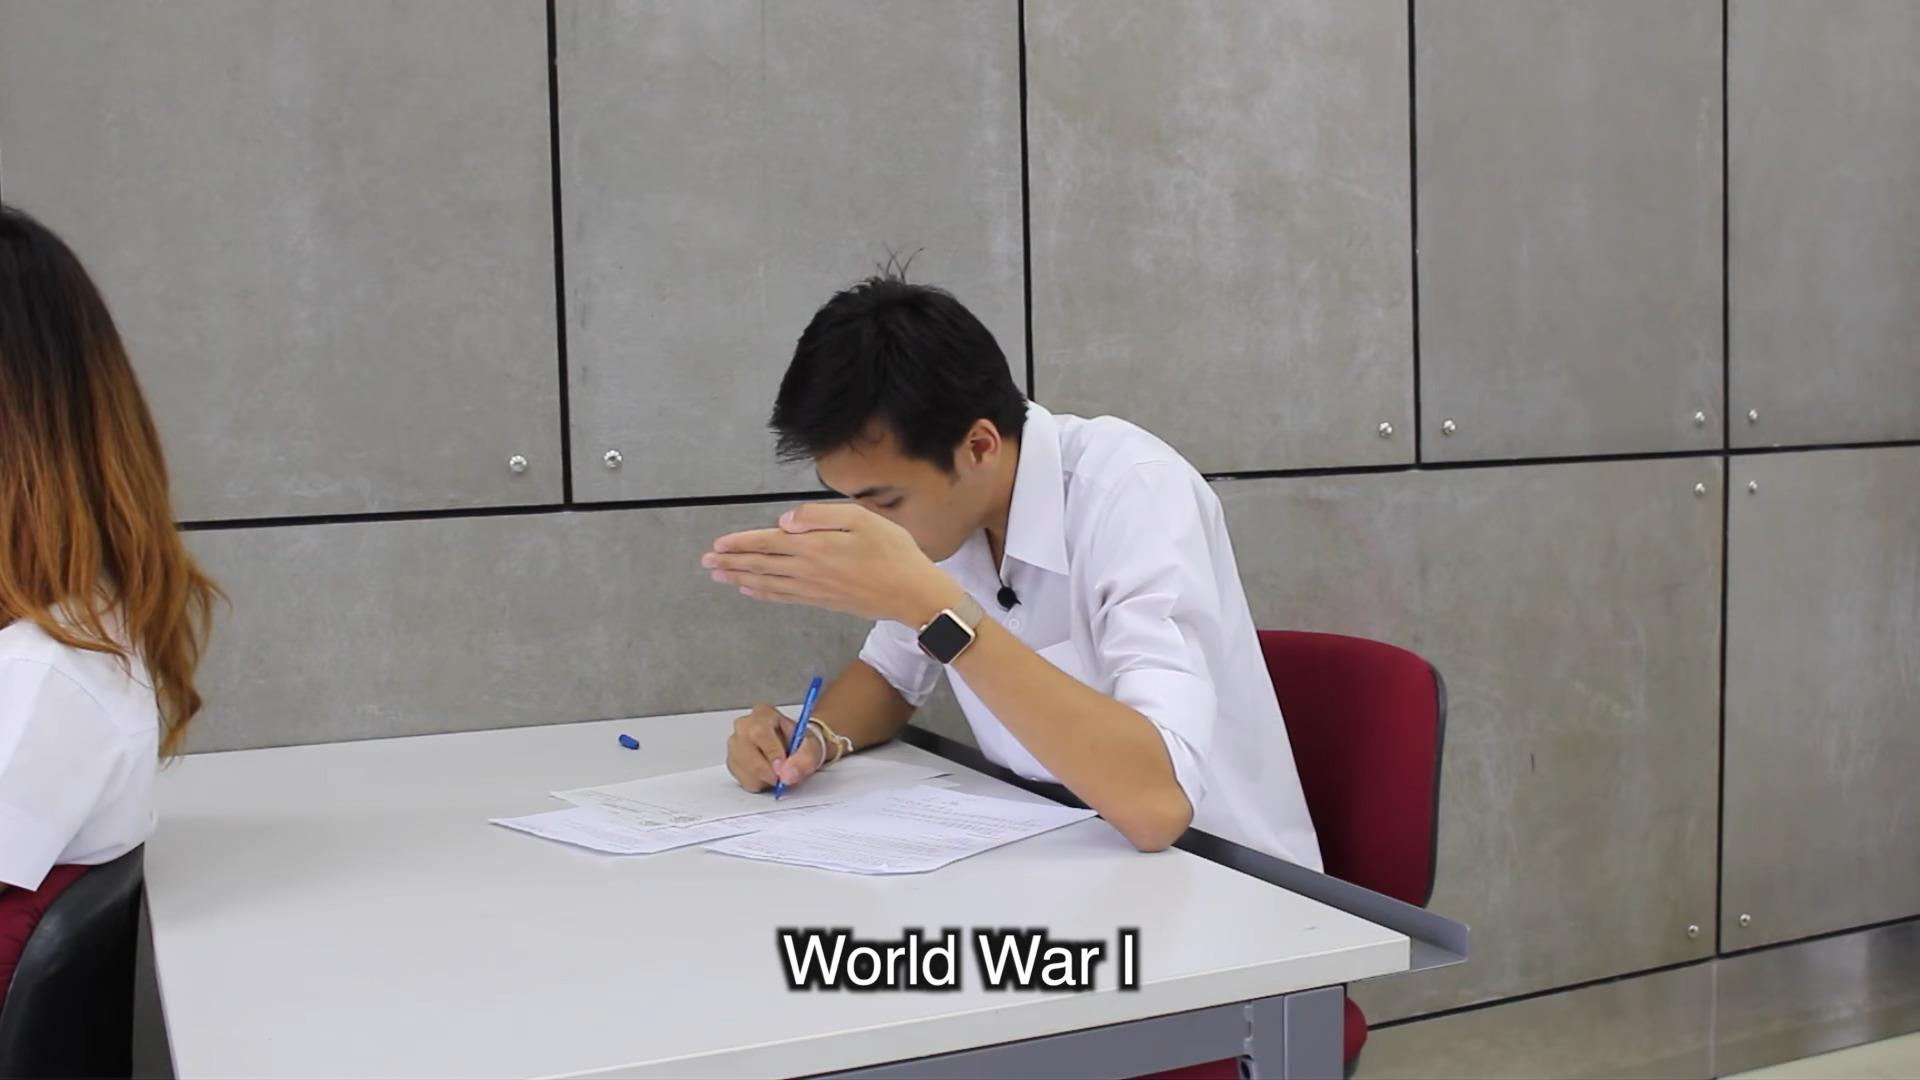cheating: (452, 220, 1361, 897)
